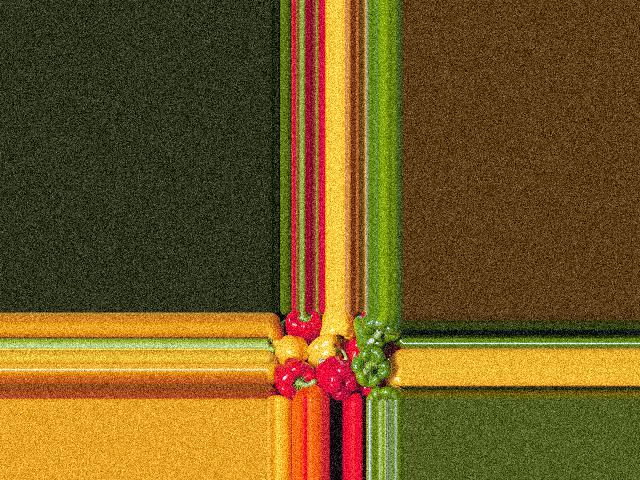bell_pepper: (365, 381, 402, 402)
